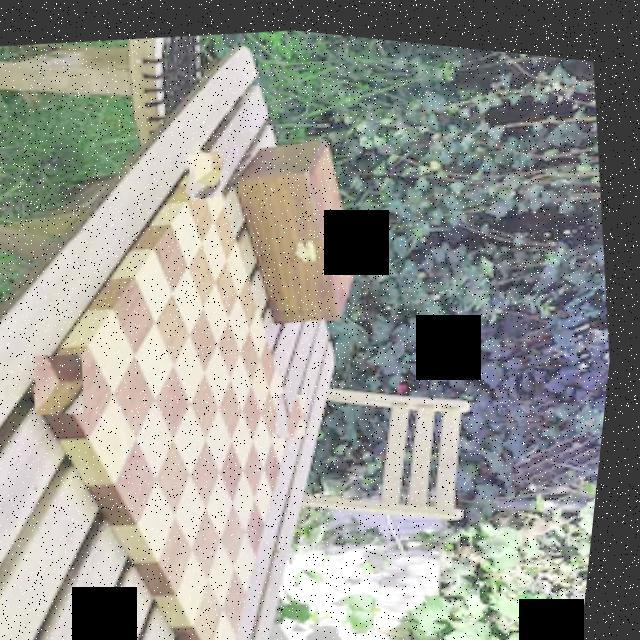chess-table-corners: (34, 347, 98, 418), (183, 141, 230, 199), (278, 384, 318, 434), (208, 639, 256, 640)
